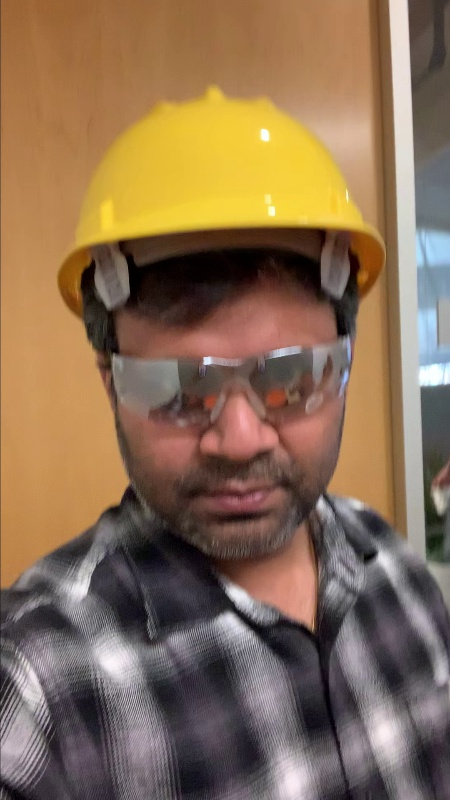glasses: (97, 336, 350, 430)
helmet: (49, 81, 397, 313)
